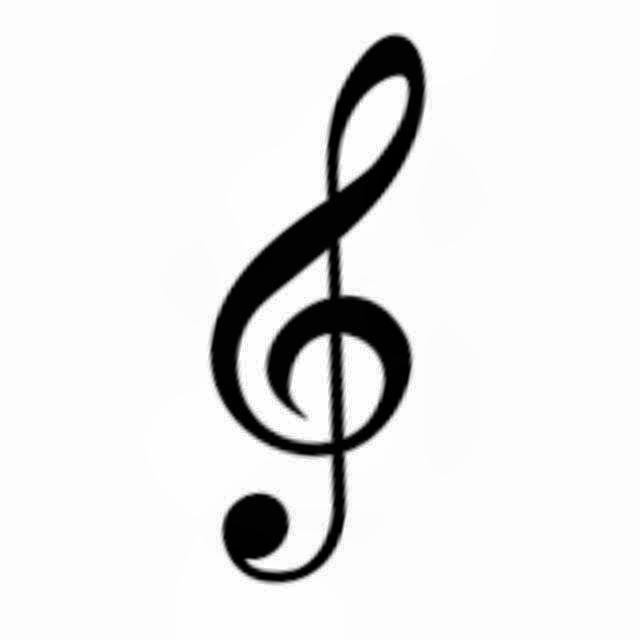Treble-clef: (196, 26, 444, 584)
